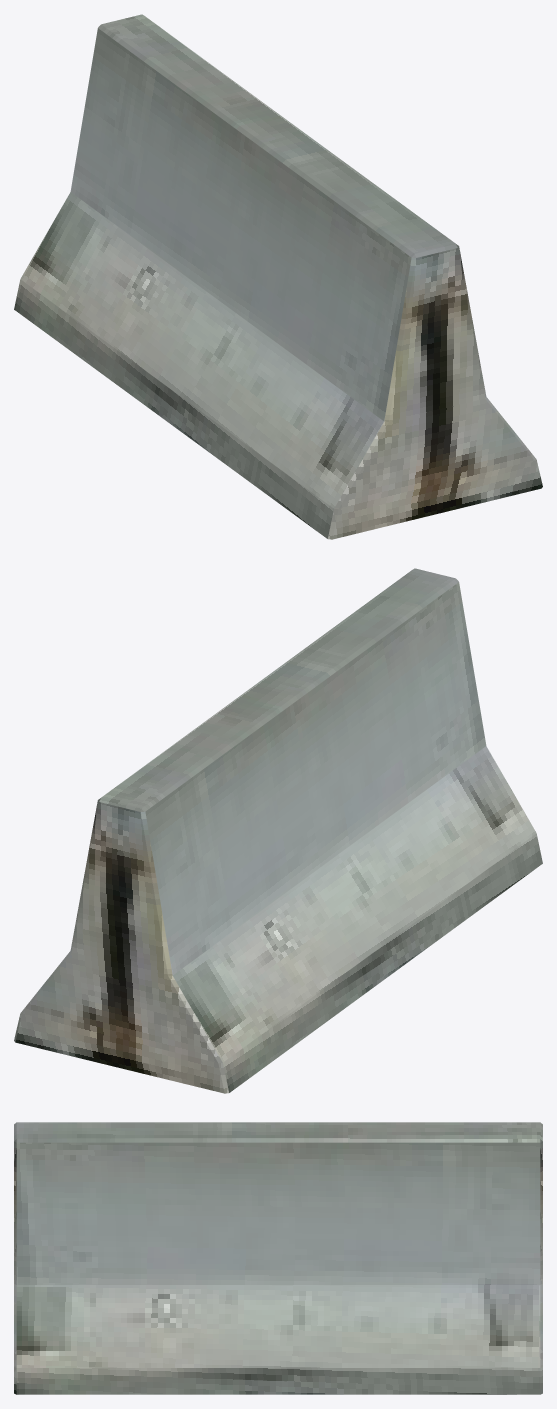
Rendered from psx_style_jersey_barrier.glb.
The picture shows the model from 3 angles, top to bottom: view 1: azimuth 30°, elevation 25°; view 2: azimuth 150°, elevation 25°; view 3: azimuth 270°, elevation 25°; orthographic projection. The views are drawn at different scales.
Parts seen in each view (by area): view 1: Cube_0; view 2: Cube_0; view 3: Cube_0.
Part boxes in pixels (x1,y1,x2,y2): Cube_0: (14, 14, 542, 539); Cube_0: (14, 568, 542, 1093); Cube_0: (14, 1122, 542, 1394).
Bounding box in the file's own units: 0.9417 × 1.1 × 2.4.
Materials: 1 (1 with a texture image).
